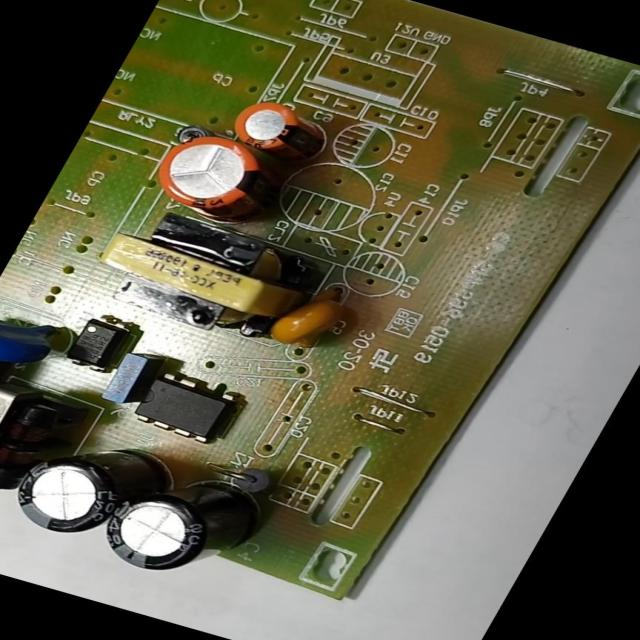Cap1: (143, 127, 290, 225)
Cap2: (222, 98, 334, 164)
Cap3: (0, 430, 148, 546)
Cap4: (112, 466, 269, 590)
MOSFET: (128, 367, 248, 446)
Mov: (0, 309, 67, 376)
Transformer: (80, 201, 295, 336), (0, 376, 74, 508)
